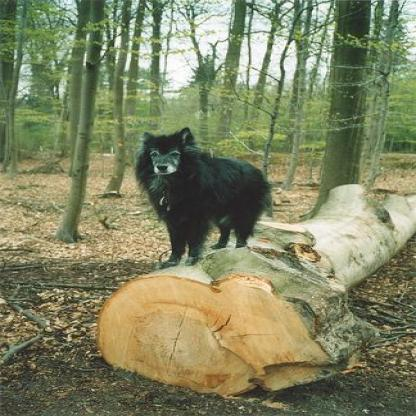groenendael: (131, 126, 271, 270)
